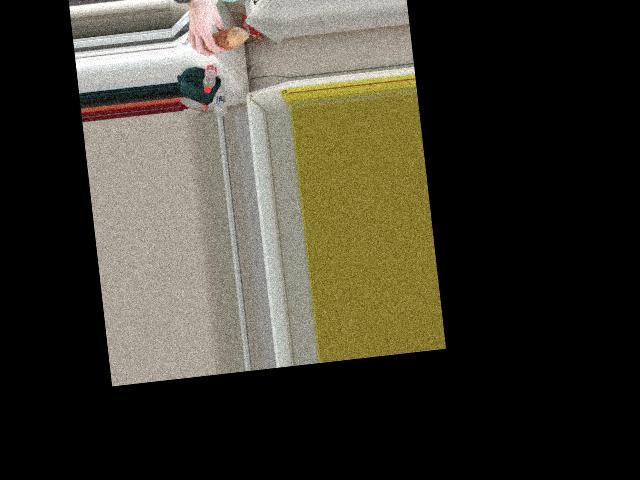sweet_potato: (207, 31, 241, 50)
